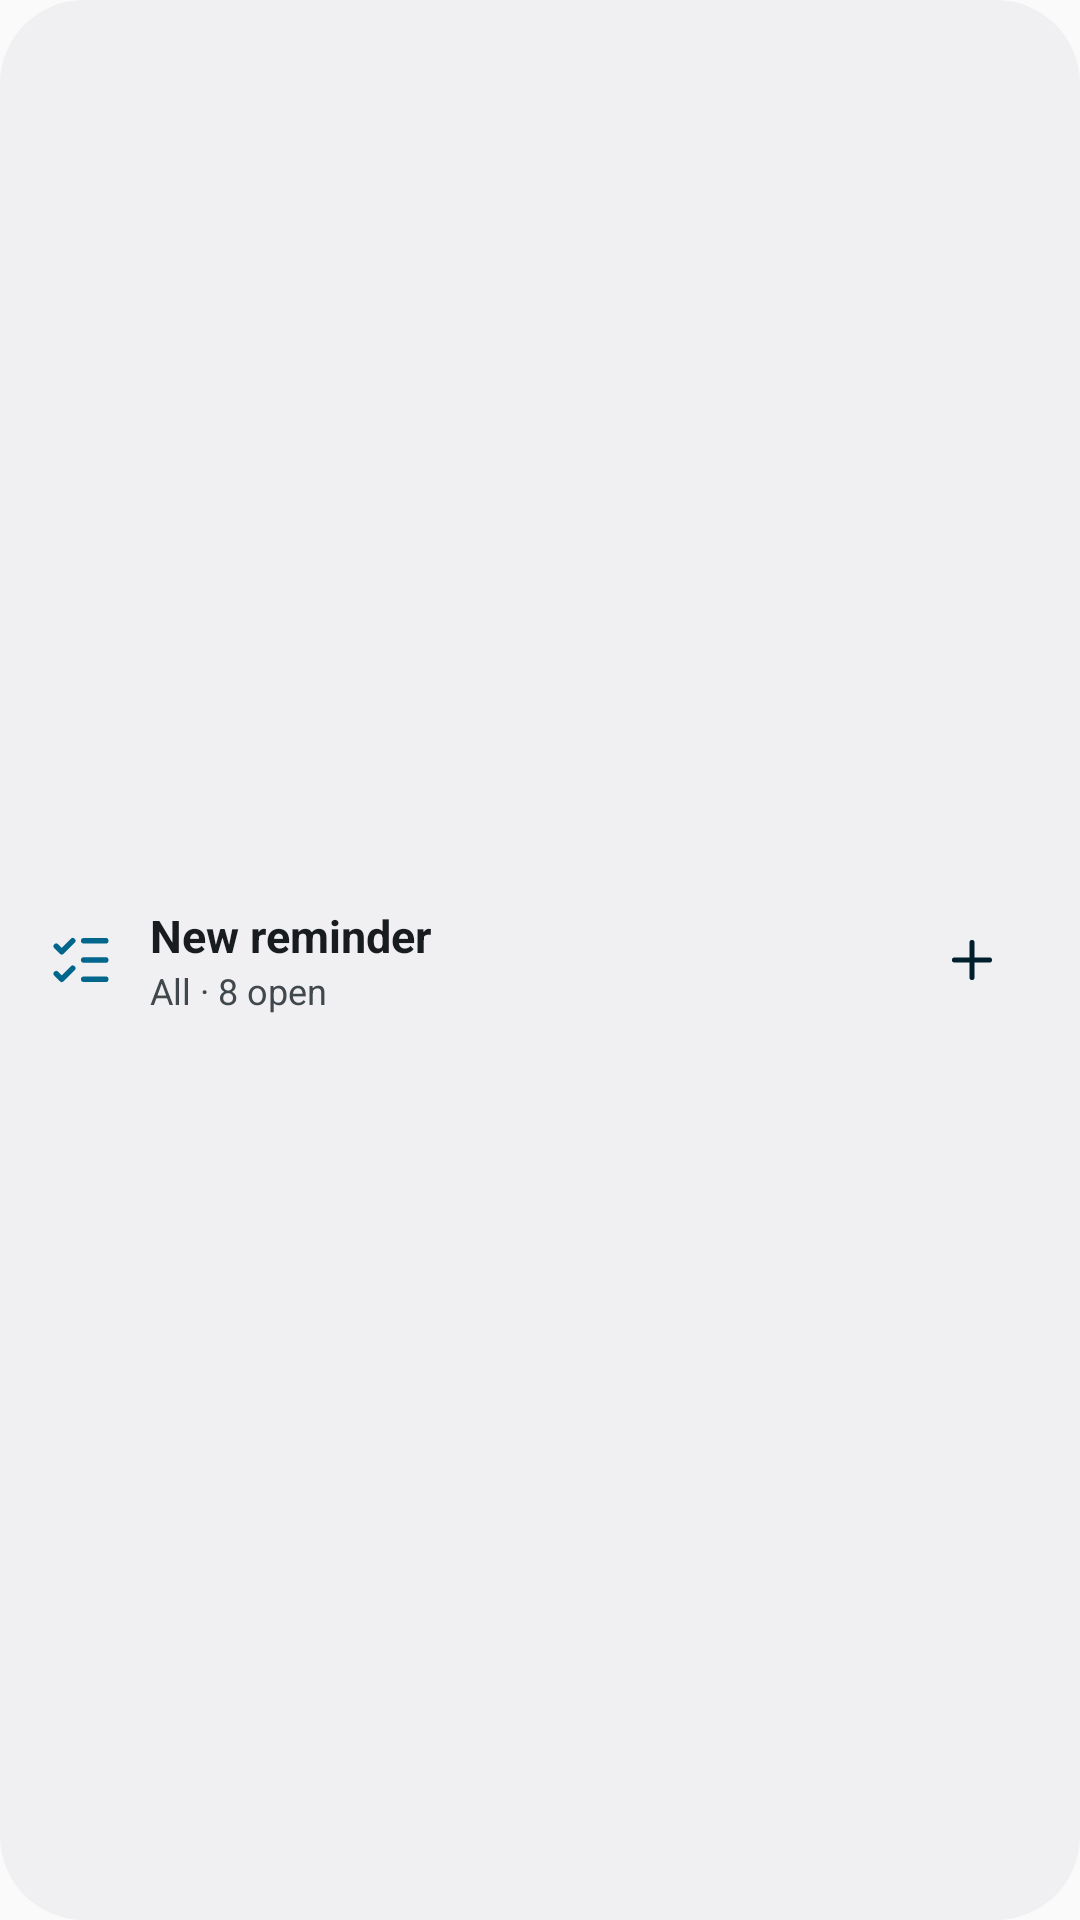

Screen size 1080px x 1920px. Icon name, then its center in pixels as (x=x, y=y):
add: (x=972, y=960)
reminders: (x=81, y=960)
